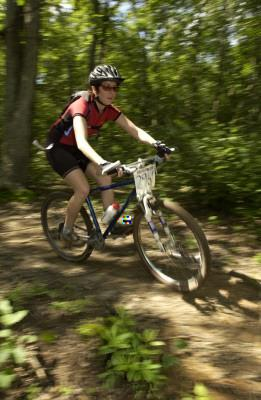car: (41, 147, 213, 293)
person: (44, 64, 167, 248)
